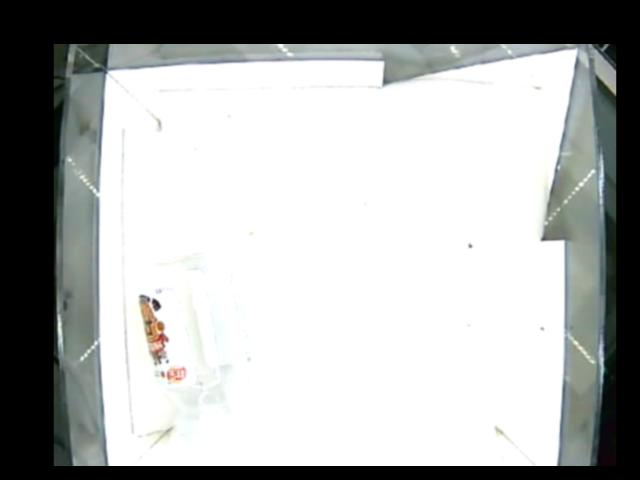Bottle: (136, 246, 259, 450)
